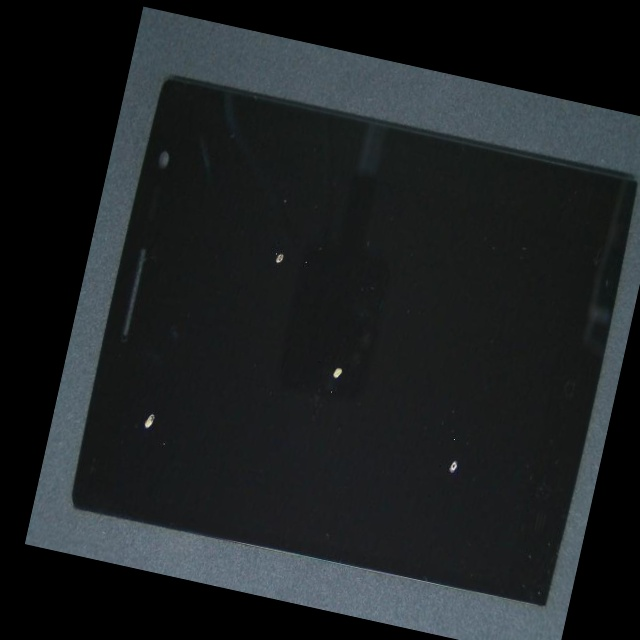stain: (196, 200, 640, 640), (163, 185, 470, 541), (158, 104, 384, 387), (69, 185, 232, 572)
